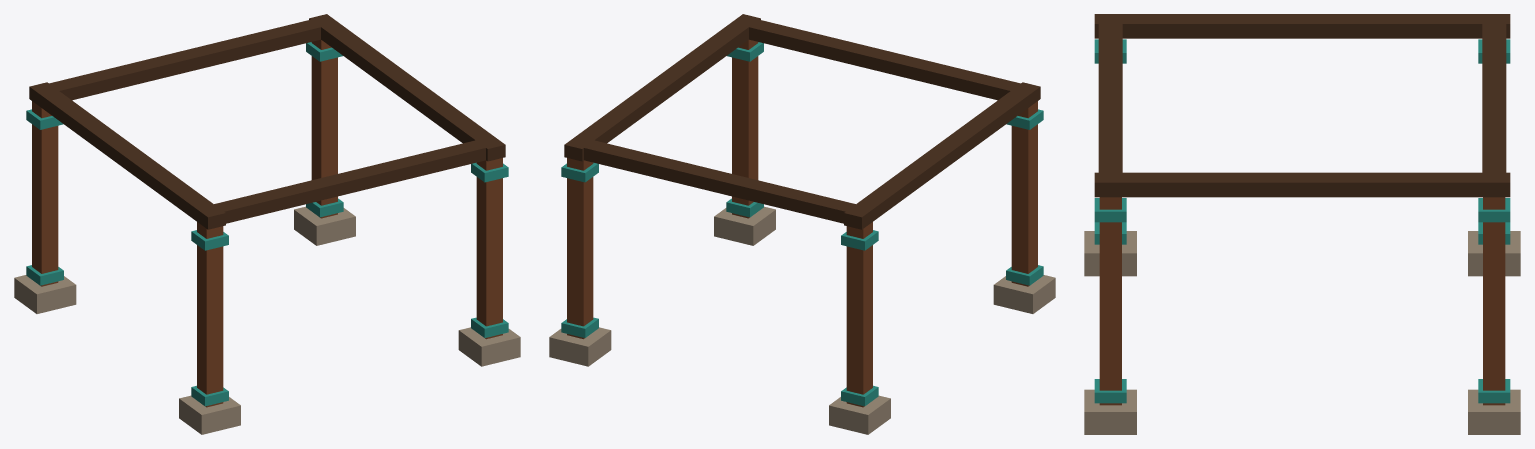
Rendered from Tropical_LagoonPavilion_Simple.glb.
The picture shows the model from 3 angles, left to right: view 1: azimuth 30°, elevation 25°; view 2: azimuth 150°, elevation 25°; view 3: azimuth 270°, elevation 25°; orthographic projection. The views are drawn at different scales.
Parts seen in each view (by area): view 1: Tropical_LagoonPavilion_Simple; view 2: Tropical_LagoonPavilion_Simple; view 3: Tropical_LagoonPavilion_Simple.
Part boxes in pixels (bbox=[...]): Tropical_LagoonPavilion_Simple: bbox=[14, 14, 520, 434]; Tropical_LagoonPavilion_Simple: bbox=[549, 14, 1055, 434]; Tropical_LagoonPavilion_Simple: bbox=[1084, 14, 1520, 434].
Bounding box in the file's own units: 5.36 × 3.4 × 5.46.
